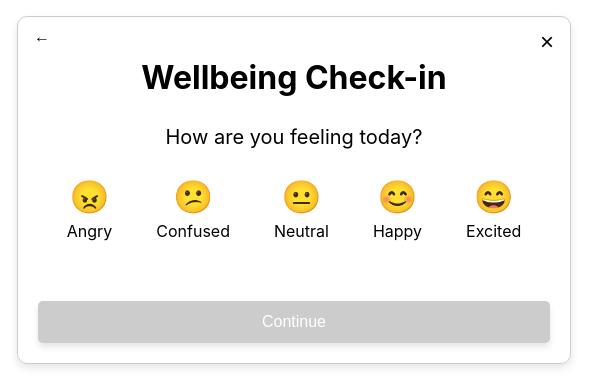
EmojiRatingWidget › Continue button is enabled when an emoji is selected
Note: Click an emoji to select it
Click the text "😊".
click(397, 197)  # box [378,177,417,216]
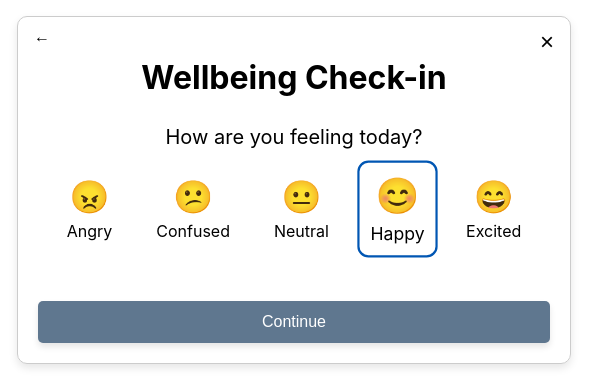
Now the button "Continue" is enabled, box [38,301,550,343]
